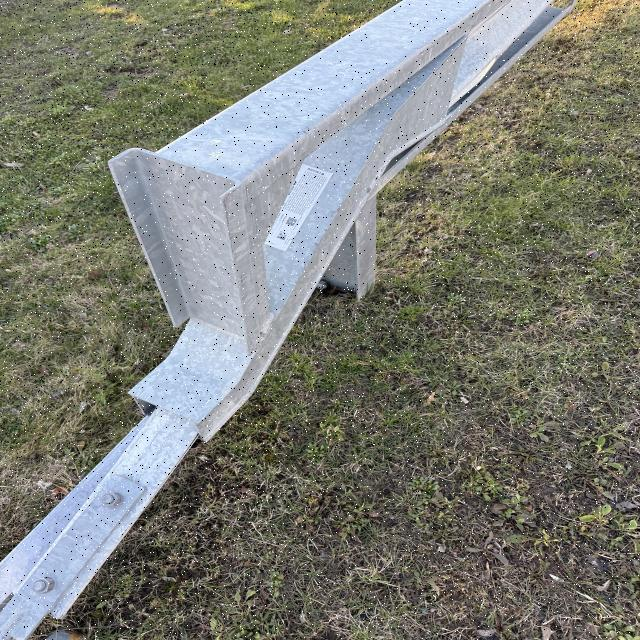Guard rail: (126, 5, 577, 317)
